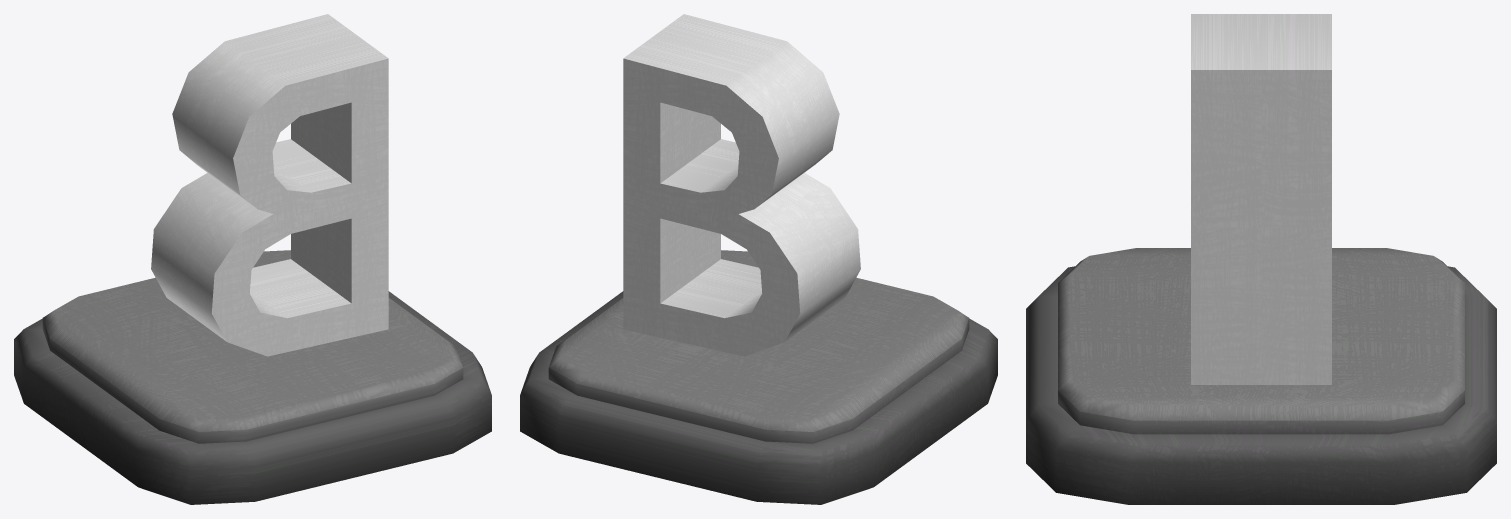
Rendered from Statue Letter B Hand.fbx.
3 renders of one model, left to right at view 1: azimuth 30°, elevation 25°; view 2: azimuth 150°, elevation 25°; view 3: azimuth 270°, elevation 25°, orthographic. The views are drawn at different scales.
Visible parts, largest first — view 1: StatueBase (1), Letter; view 2: StatueBase (1), Letter; view 3: StatueBase (1), Letter.
Boxes of the visible parts, box(x1,y1,x2,y2) form: StatueBase (1): box(14, 250, 491, 504); Letter: box(151, 14, 388, 356); StatueBase (1): box(520, 250, 997, 504); Letter: box(623, 14, 860, 356); StatueBase (1): box(1026, 248, 1496, 504); Letter: box(1191, 14, 1331, 384).
Bounding box in the file's own units: 0.9118 × 0.8657 × 0.9299.
2 materials, 2 textured.
